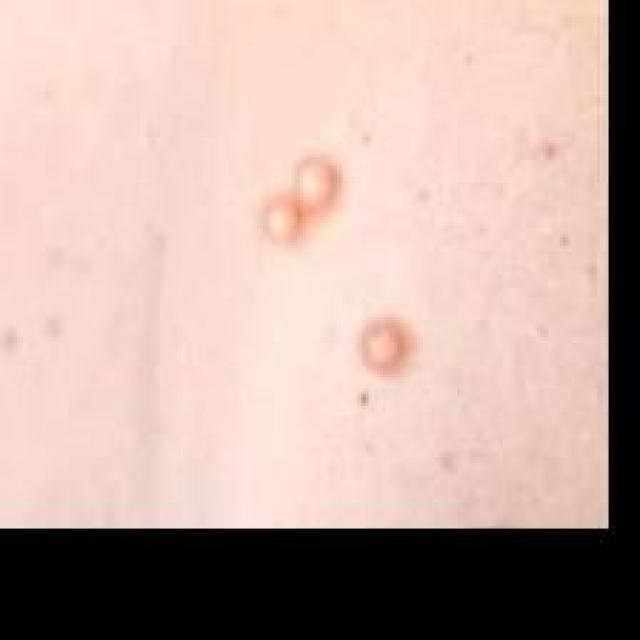monkeypox: (10, 24, 562, 522)
